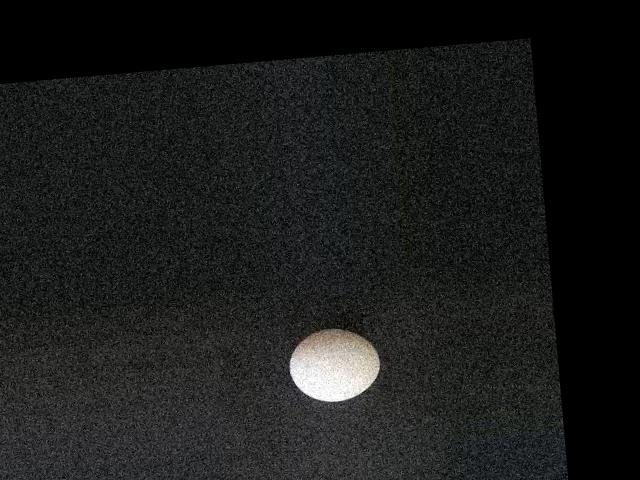egg: (289, 325, 383, 404)
